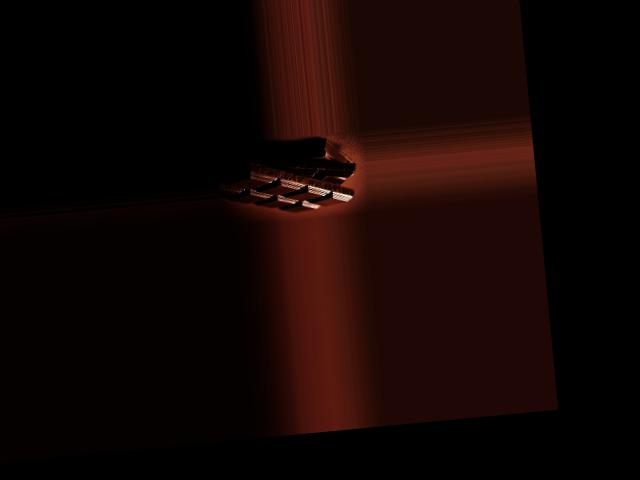chocolate: (220, 144, 358, 218)
